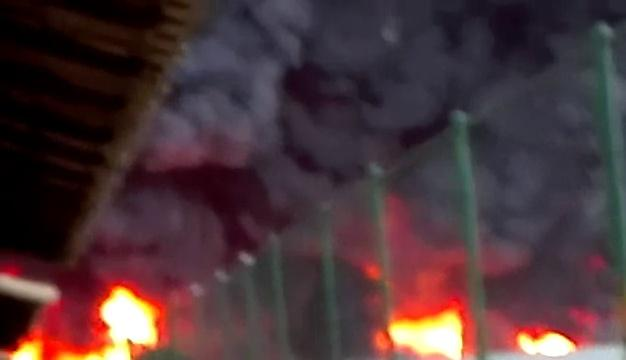fire: (97, 292, 164, 350), (389, 315, 465, 353), (521, 333, 574, 358)
smoke: (161, 80, 255, 152)
